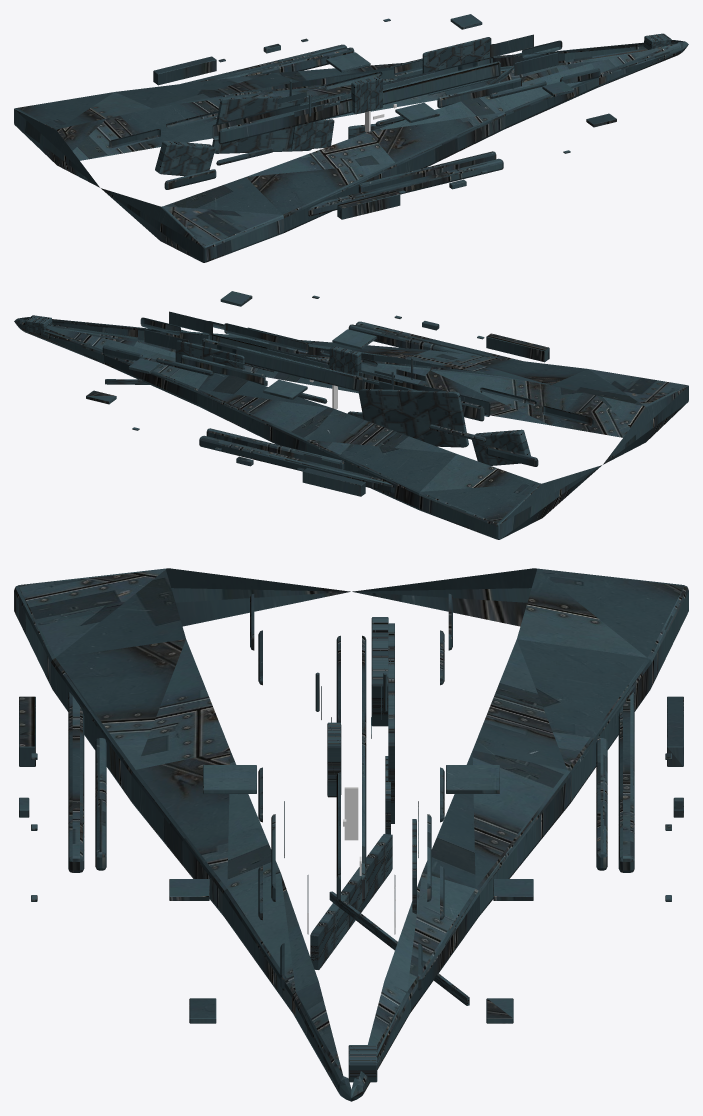
File: hull_fighter.glb
3 views of the same model, one above another, from view 1: azimuth 30°, elevation 25°; view 2: azimuth 150°, elevation 25°; view 3: azimuth 270°, elevation 25° (orthographic). The views are drawn at different scales.
Parts seen in each view (by area): view 1: LOD0_HULL_FIGHTER_MAIN, DET_heat_scorch, DET_reactor_vent, DET_patrol_stencil, DET_bounty_weld, DET_hardpoint_collar; view 2: LOD0_HULL_FIGHTER_MAIN, DET_heat_scorch, DET_reactor_vent, DET_patrol_stencil, DET_hardpoint_collar, DET_sensor_nose; view 3: LOD0_HULL_FIGHTER_MAIN, DET_wing_root_rib, DET_reactor_vent, DET_heat_scorch, DET_nav_stripe, DET_hardpoint_collar, DET_sensor_nose, DET_faction_stripe_port.
Part boxes in pixels (<box>): LOD0_HULL_FIGHTER_MAIN: <box>14,14,688,262</box>; DET_heat_scorch: <box>212,95,320,153</box>; DET_reactor_vent: <box>155,141,215,176</box>; DET_patrol_stencil: <box>422,37,491,73</box>; DET_bounty_weld: <box>291,119,334,150</box>; DET_hardpoint_collar: <box>351,76,382,114</box>; LOD0_HULL_FIGHTER_MAIN: <box>14,291,688,539</box>; DET_heat_scorch: <box>358,389,468,447</box>; DET_reactor_vent: <box>472,429,530,465</box>; DET_patrol_stencil: <box>175,340,244,369</box>; DET_hardpoint_collar: <box>329,346,361,375</box>; DET_sensor_nose: <box>25,315,52,333</box>; LOD0_HULL_FIGHTER_MAIN: <box>14,568,688,1101</box>; DET_wing_root_rib: <box>310,834,392,969</box>; DET_reactor_vent: <box>371,617,388,726</box>; DET_heat_scorch: <box>388,623,394,823</box>; DET_nav_stripe: <box>329,891,469,1005</box>; DET_hardpoint_collar: <box>327,722,341,797</box>; DET_sensor_nose: <box>348,1045,377,1082</box>; DET_faction_stripe_port: <box>344,787,358,840</box>.
Bounding box in the file's own units: 10.45 × 1.4 × 5.88.
3 materials, 3 textured.
